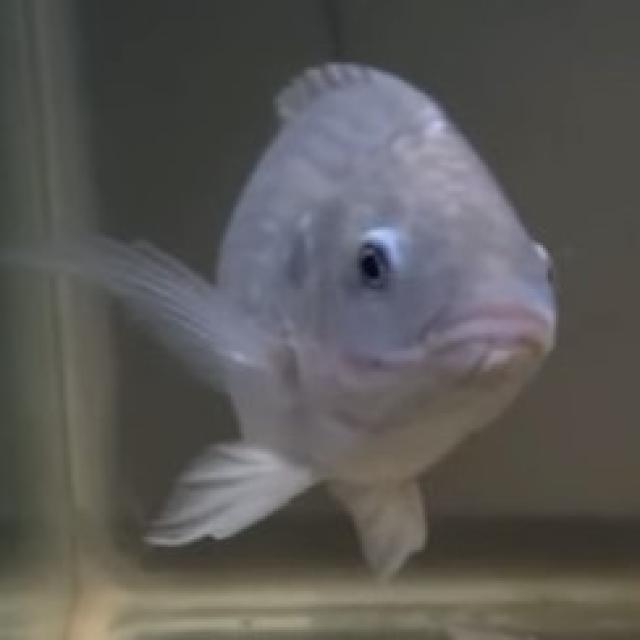ikan: (0, 56, 561, 583)
